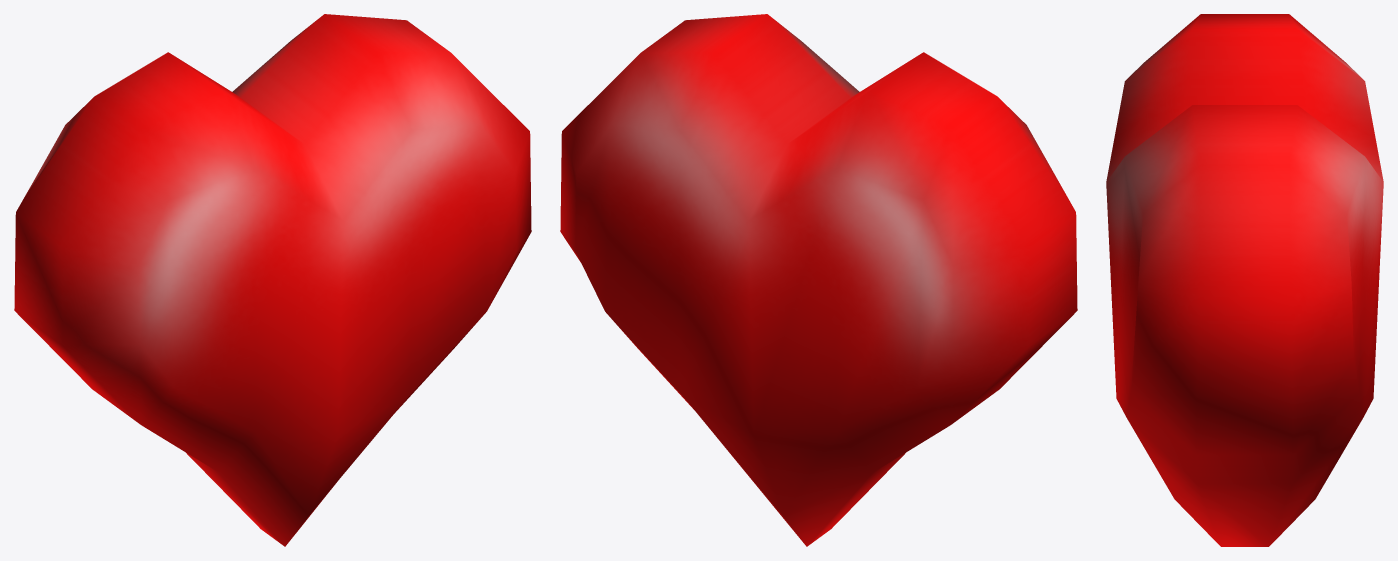
Rendered from HeartPickup.fbx.
3 renders of one model, left to right at view 1: azimuth 30°, elevation 25°; view 2: azimuth 150°, elevation 25°; view 3: azimuth 270°, elevation 25°, orthographic.
Visible parts, largest first — view 1: HealthPickUp; view 2: HealthPickUp; view 3: HealthPickUp.
Boxes of the visible parts, x1,y1,x2,y2 form: HealthPickUp: [14, 14, 531, 546]; HealthPickUp: [560, 14, 1077, 546]; HealthPickUp: [1106, 14, 1383, 546].
Bounding box in the file's own units: 2.54 × 2.52 × 1.32.
Materials: 1 (1 with a texture image).
